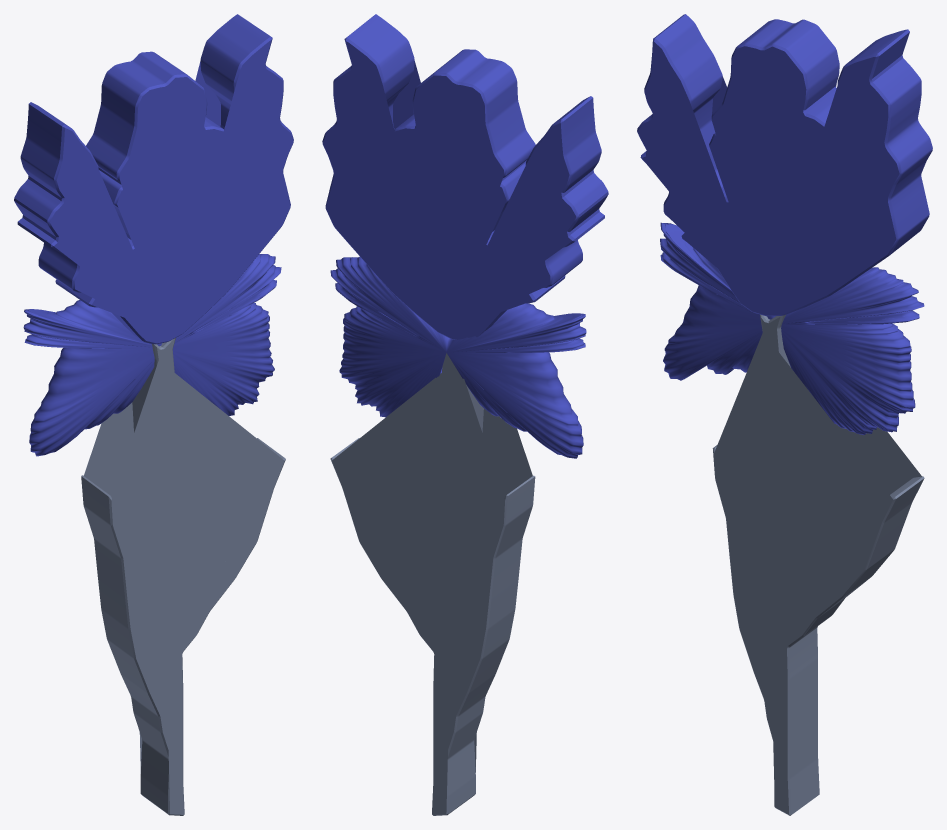
File: fleur_iris_3.fbx
3 renders of one model, left to right at view 1: azimuth 30°, elevation 25°; view 2: azimuth 150°, elevation 25°; view 3: azimuth 330°, elevation 25°, orthographic. The views are drawn at different scales.
Visible parts, largest first — view 1: fleur_haut, tige, fleur_bas; view 2: fleur_haut, tige, fleur_bas; view 3: fleur_haut, tige, fleur_bas.
Boxes of the visible parts, left/top/right/bottom form: fleur_haut: left=14, top=14, right=293, bottom=344; tige: left=81, top=338, right=285, bottom=815; fleur_bas: left=23, top=254, right=281, bottom=456; fleur_haut: left=322, top=14, right=608, bottom=339; tige: left=330, top=353, right=535, bottom=815; fleur_bas: left=330, top=256, right=586, bottom=458; fleur_haut: left=637, top=14, right=932, bottom=316; tige: left=712, top=314, right=924, bottom=815; fleur_bas: left=660, top=222, right=924, bottom=434.
Bounding box in the file's own units: 1.55 × 4.36 × 0.4008.
